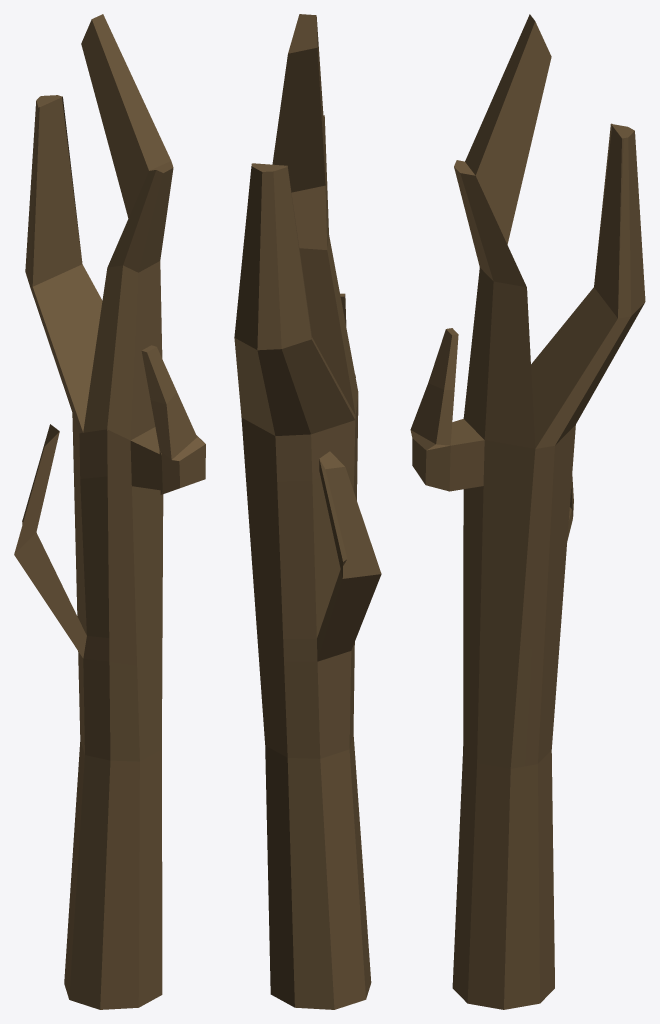
The model's file is floating tree.fbx.
3 views of the same model, side by side, from view 1: azimuth 30°, elevation 25°; view 2: azimuth 150°, elevation 25°; view 3: azimuth 270°, elevation 25° (orthographic). The views are drawn at different scales.
Visible parts, largest first — view 1: Cylinder; view 2: Cylinder; view 3: Cylinder.
Boxes of the visible parts, x1,y1,x2,y2 form: Cylinder: (14,14,205,1009); Cylinder: (234,14,381,1009); Cylinder: (410,14,645,1009).
Bounding box in the file's own units: 212 × 1412 × 310.
